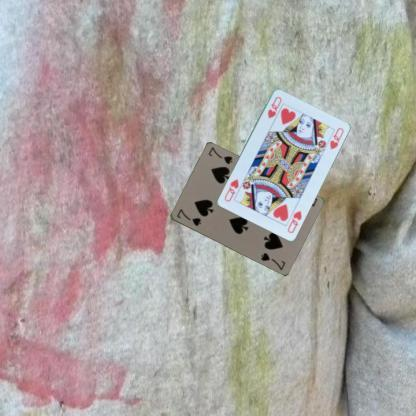7s: (174, 206, 202, 227)
Qh: (264, 93, 284, 119), (285, 208, 303, 234)
